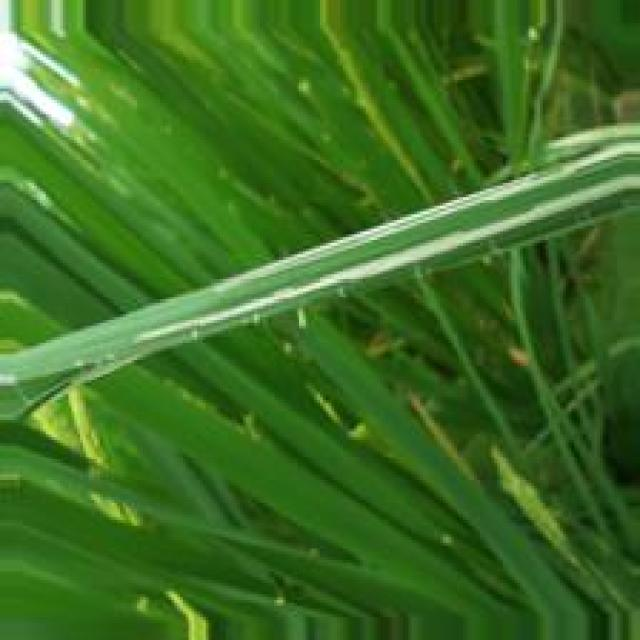Rice_Hispa: (127, 178, 638, 337), (210, 131, 640, 295)
